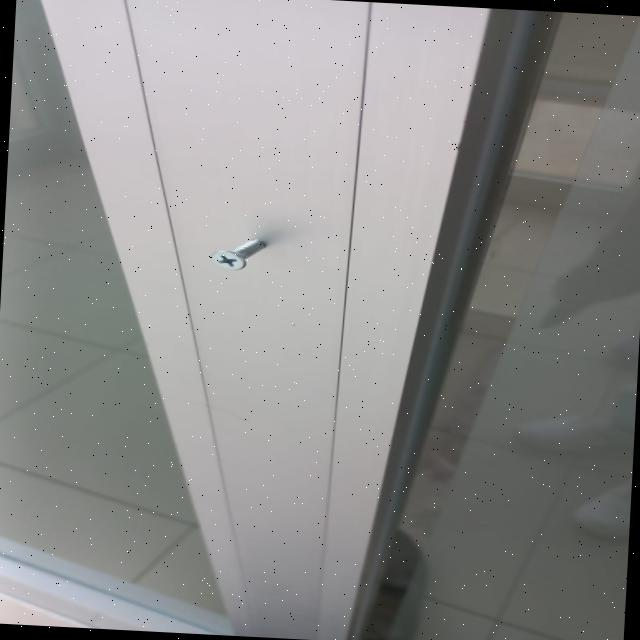Phillips: (202, 245, 252, 278)
